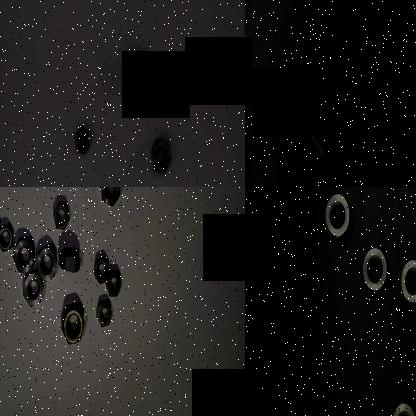Bolts: (291, 94, 329, 166)
NUTS: (358, 238, 392, 302), (322, 188, 352, 242), (10, 227, 36, 275), (120, 52, 146, 98), (59, 304, 86, 346), (32, 240, 58, 281), (398, 254, 416, 308), (150, 134, 172, 176), (20, 271, 44, 308), (54, 245, 82, 274), (101, 269, 123, 304), (387, 392, 416, 416), (50, 194, 68, 232), (94, 296, 114, 330), (92, 252, 110, 284), (74, 124, 90, 157), (99, 187, 123, 207), (0, 218, 14, 252)
